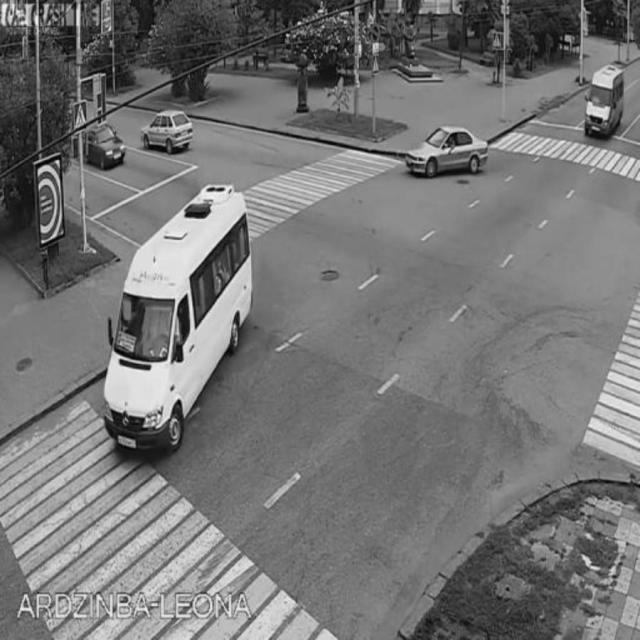vehicle: (111, 188, 253, 456), (406, 128, 489, 175), (585, 68, 623, 141), (85, 121, 127, 172), (146, 110, 194, 150)
